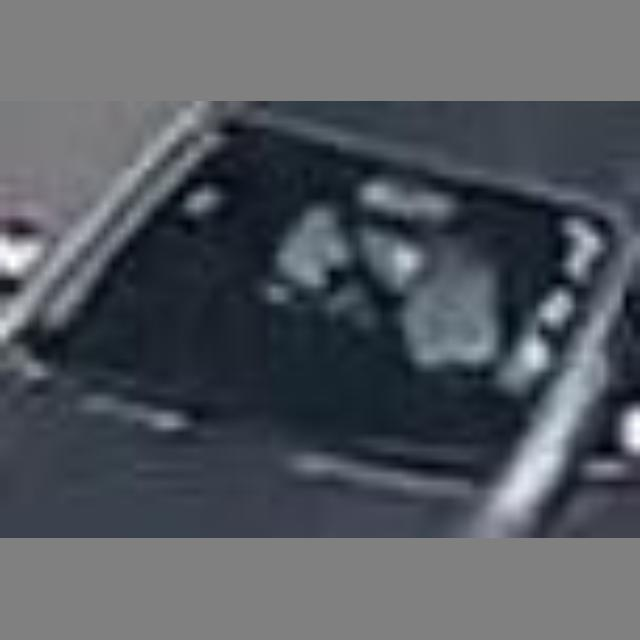pakai: (227, 168, 522, 379)
